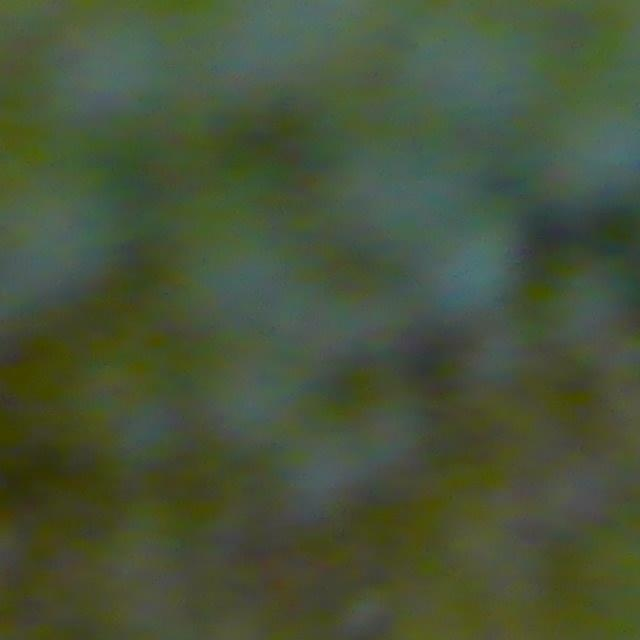SeaGrape: (420, 218, 524, 324)
